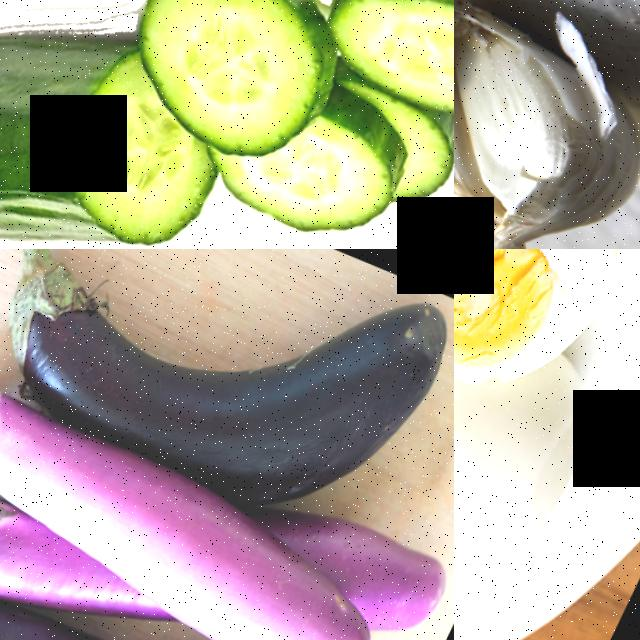cucumber: (101, 0, 361, 171), (0, 0, 151, 249), (258, 81, 437, 249), (314, 0, 454, 128)
egg_: (454, 346, 610, 591), (454, 249, 640, 412)
eggplant: (0, 249, 454, 536), (0, 366, 289, 605), (0, 556, 296, 640)
garlic: (454, 0, 640, 249)
